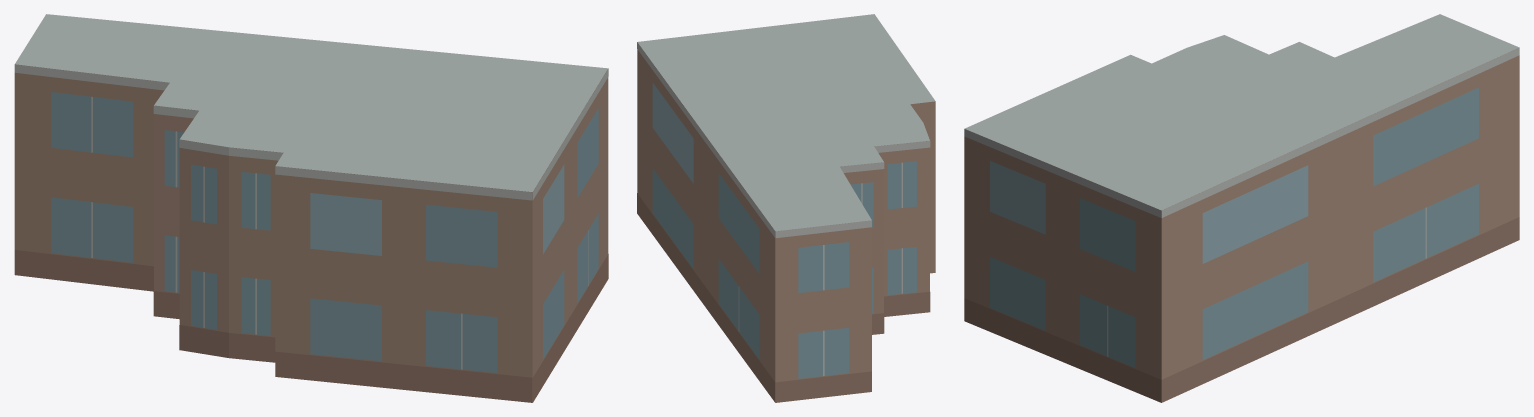
File: survey-upis-32755639.glb
The picture shows the model from 3 angles, left to right: view 1: azimuth 30°, elevation 25°; view 2: azimuth 150°, elevation 25°; view 3: azimuth 270°, elevation 25°; orthographic projection. The views are drawn at different scales.
Parts seen in each view (by area): view 1: survey-upis-32755639.tmp; view 2: survey-upis-32755639.tmp; view 3: survey-upis-32755639.tmp.
Boxes of the visible parts, bbox=[...] form: survey-upis-32755639.tmp: bbox=[14, 14, 608, 402]; survey-upis-32755639.tmp: bbox=[637, 14, 935, 402]; survey-upis-32755639.tmp: bbox=[964, 14, 1519, 402].
Bounding box in the file's own units: 13.37 × 6.1 × 15.97.
